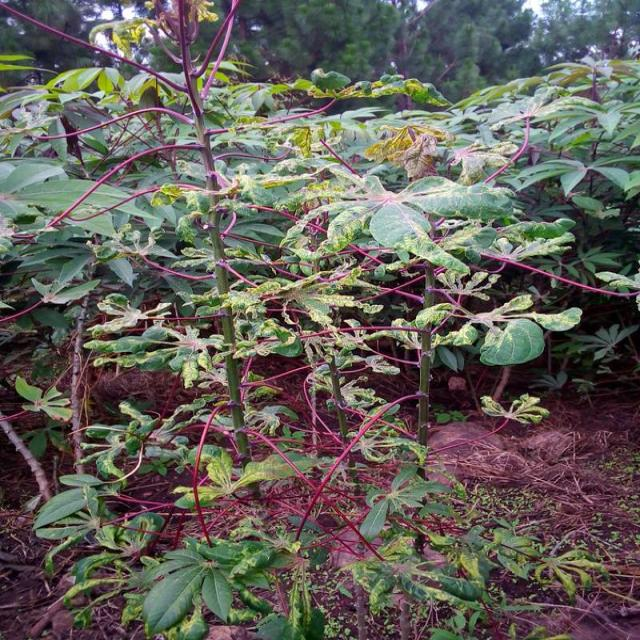cassava leaf: (2, 3, 638, 637), (480, 317, 546, 366)
